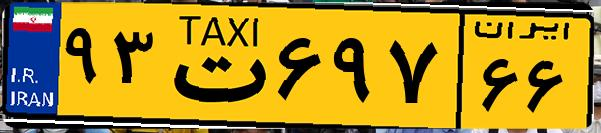3: (110, 28, 158, 98)
6: (270, 28, 330, 110), (475, 38, 525, 113), (525, 38, 570, 115)
7: (385, 28, 445, 110)
9: (330, 28, 385, 110), (57, 26, 110, 100)
ت: (158, 12, 270, 120)
